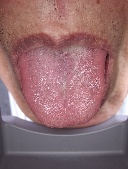tongue: (14, 53, 107, 128)
